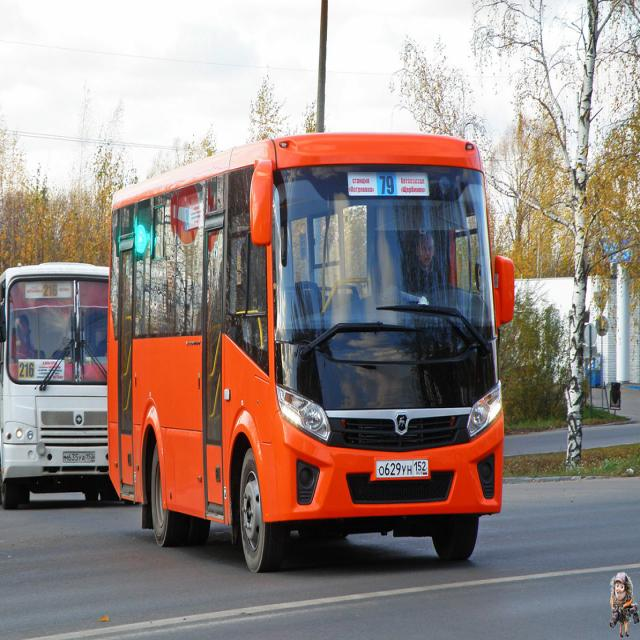number-of-bus: (378, 172, 398, 197)
